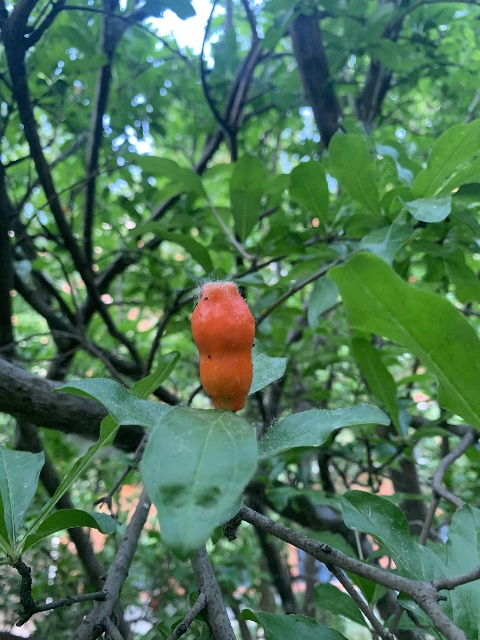bud: (191, 280, 255, 410)
